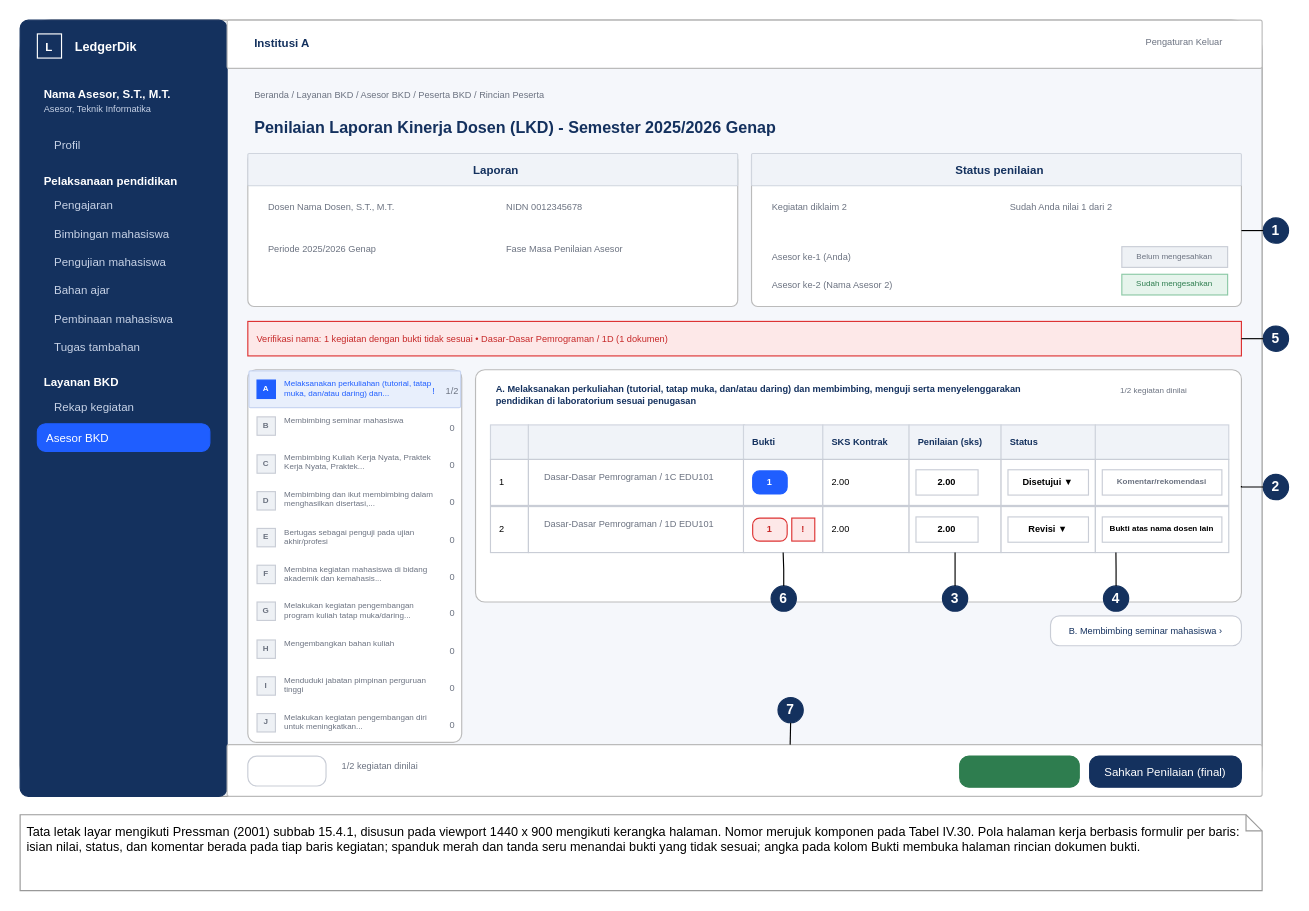
This 1309x911 diagram has some shape labels left out. The shapes that lost their labels are listed below. From the top down, each one's centre as x and y in pixels, then its label:
the point at 508,441: No
the point at 636,441: Nama Kegiatan
the point at 1161,441: Komentar
the point at 286,770: ← Kembali
the point at 1019,771: Simpan Penilaian
